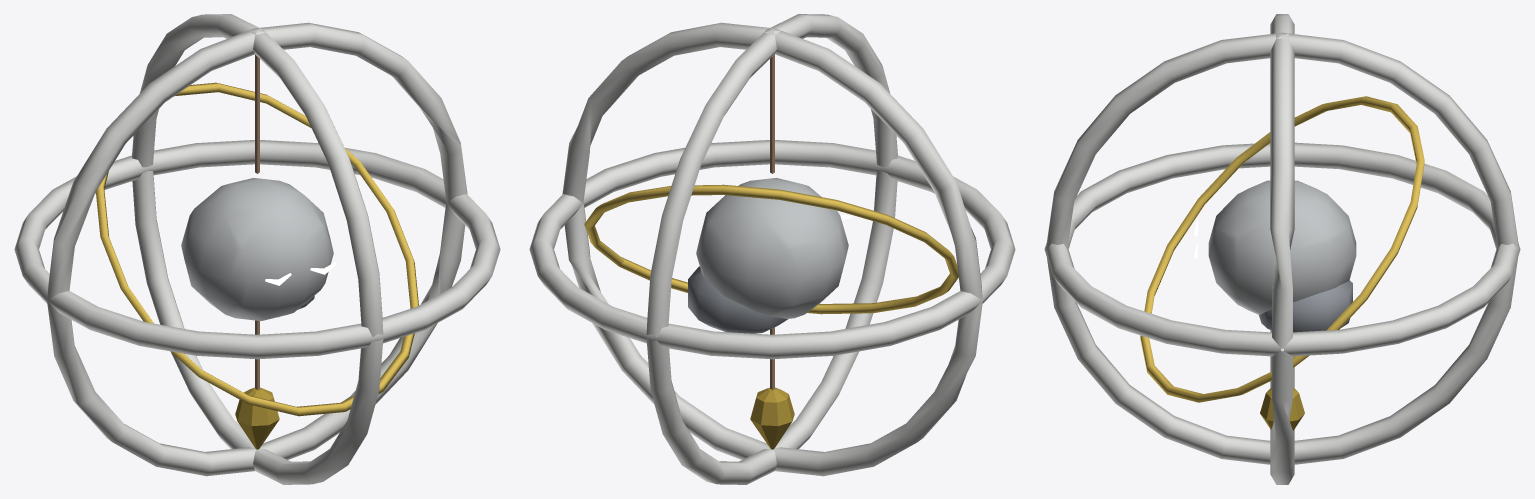
The model's file is fog-of-stillness.glb.
3 renders of one model, left to right at view 1: azimuth 30°, elevation 25°; view 2: azimuth 150°, elevation 25°; view 3: azimuth 270°, elevation 25°, orthographic. The views are drawn at different scales.
Visible parts, largest first — view 1: fog_of_stillness, pulse_fog; view 2: fog_of_stillness, pulse_fog; view 3: fog_of_stillness, pulse_fog.
Boxes of the visible parts, <box> form: fog_of_stillness: <box>14,14,500,484</box>; pulse_fog: <box>181,178,333,320</box>; fog_of_stillness: <box>529,14,1015,484</box>; pulse_fog: <box>688,178,848,333</box>; fog_of_stillness: <box>1044,14,1520,484</box>; pulse_fog: <box>1208,180,1356,332</box>.
Size of the model in its own units: 0.6319 by 0.6277 by 0.632.
